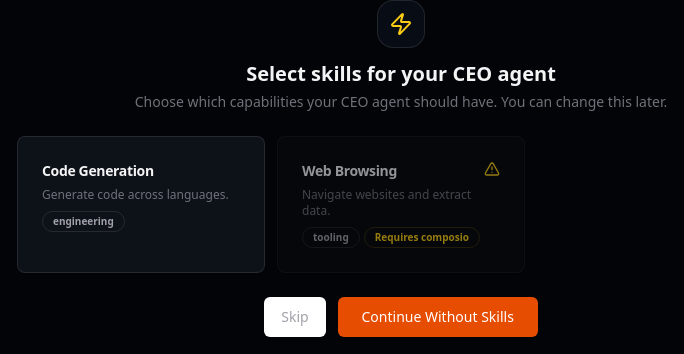
Test: Onboarding Skill Selection (VAL-SKILLS-004) › skill cards are selectable with visual feedback
Note: Click on Code Generation card
Click the text "Code Generation" at (98, 171), box top-left (42, 161), bottom-right (154, 181)
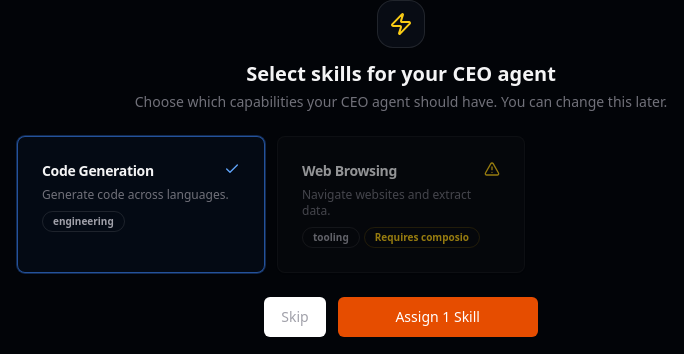
Now the button "Assign 1 Skill" is shown, box top-left (338, 297), bottom-right (538, 337)
